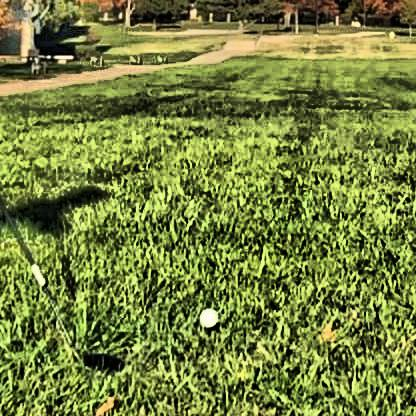golfball: (196, 303, 217, 324)
